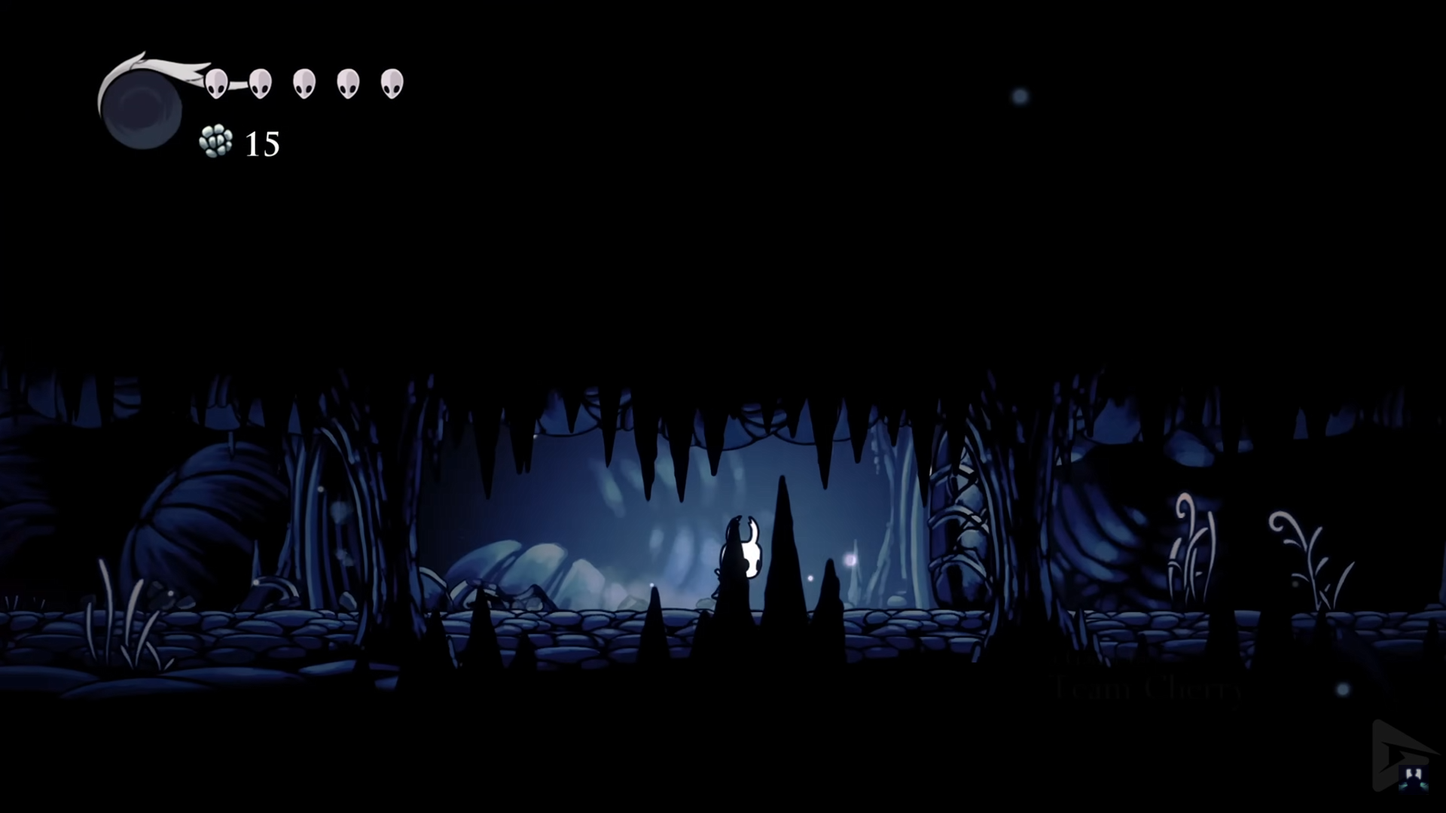HK: (709, 516, 769, 609)
